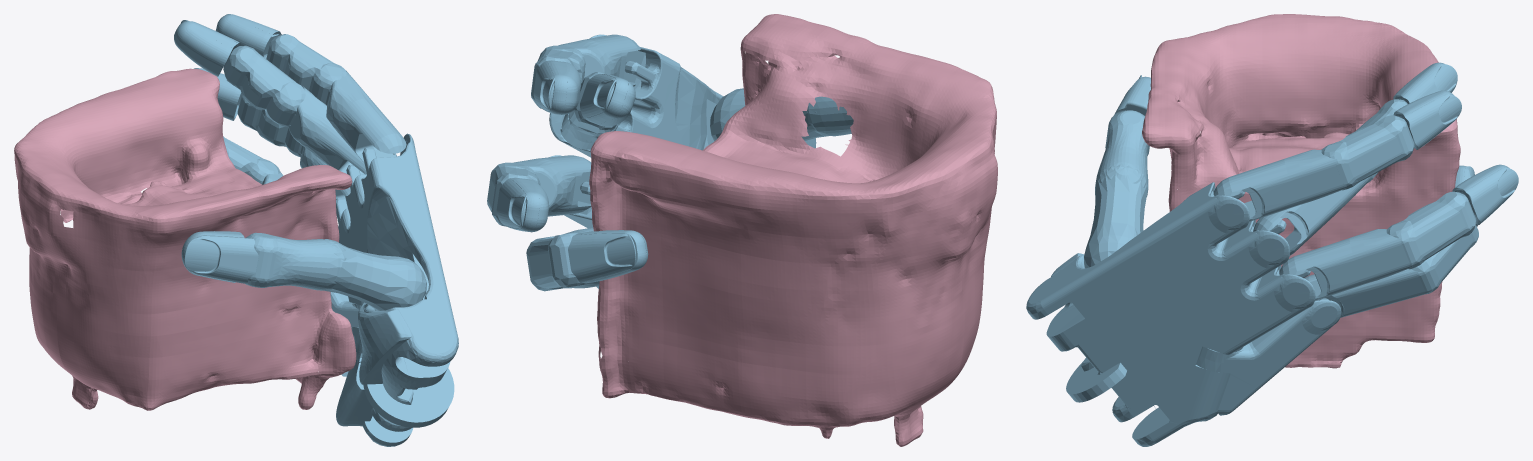
3 renders of one model, left to right at view 1: azimuth 30°, elevation 25°; view 2: azimuth 150°, elevation 25°; view 3: azimuth 270°, elevation 25°, orthographic. The views are drawn at different scales.
Visible parts, largest first — view 1: world, hand_isaac_q; view 2: world, hand_isaac_q; view 3: hand_isaac_q, world.
Boxes of the visible parts, left/top/right/bottom form: world: left=14, top=68, right=356, bottom=410; hand_isaac_q: left=174, top=14, right=458, bottom=446; world: left=589, top=14, right=997, bottom=446; hand_isaac_q: left=487, top=34, right=853, bottom=291; hand_isaac_q: left=1026, top=62, right=1518, bottom=446; world: left=1142, top=14, right=1460, bottom=368.
Size of the model in its own units: 0.172 by 0.1569 by 0.2011.
